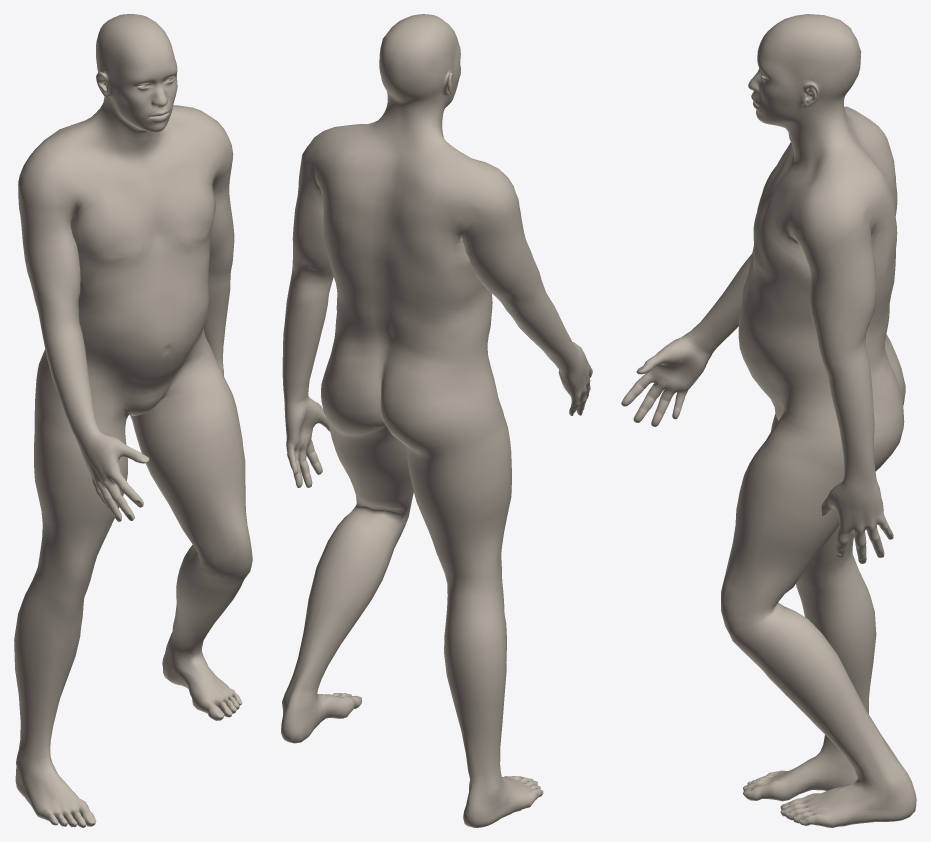
The model's file is sitka_body_walk.glb.
3 renders of one model, left to right at view 1: azimuth 30°, elevation 25°; view 2: azimuth 150°, elevation 25°; view 3: azimuth 270°, elevation 25°, orthographic. The views are drawn at different scales.
Visible parts, largest first — view 1: body_walk; view 2: body_walk; view 3: body_walk.
Part boxes in pixels (x1,y1,x2,y2): body_walk: (14,14,252,827); body_walk: (281,14,592,827); body_walk: (621,14,916,827).
Bounding box in the file's own units: 0.5682 × 1.87 × 0.6112.
